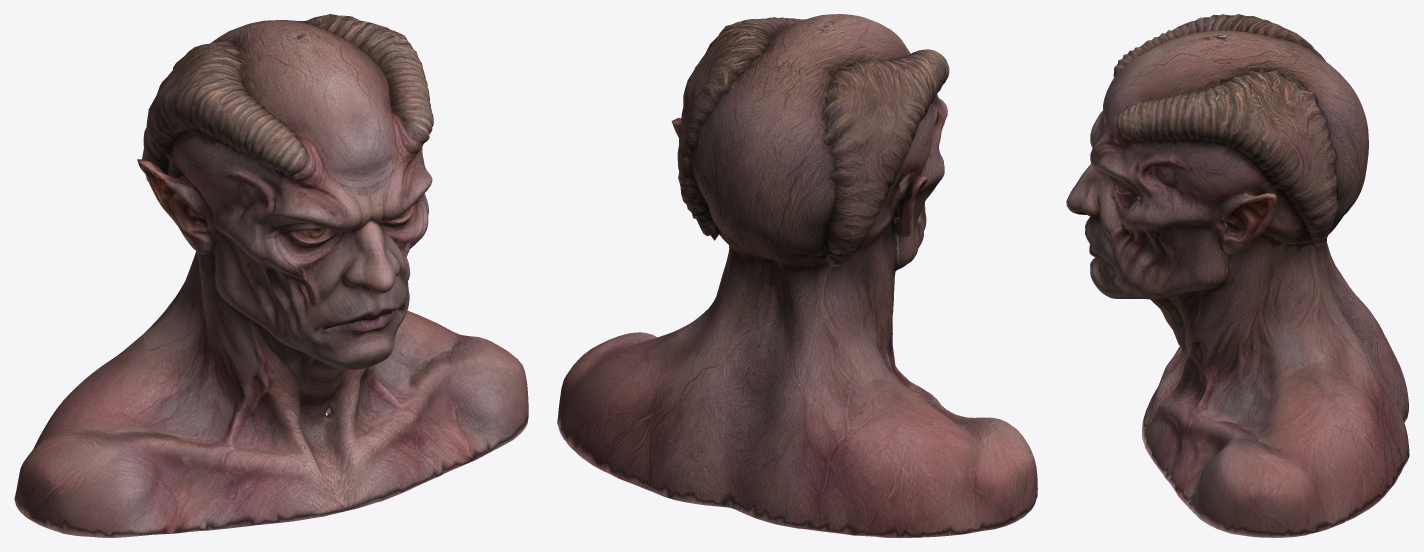
Rendered from daemon.glb.
3 views of the same model, side by side, from view 1: azimuth 30°, elevation 25°; view 2: azimuth 150°, elevation 25°; view 3: azimuth 270°, elevation 25° (orthographic). The views are drawn at different scales.
Visible parts, largest first — view 1: Head; view 2: Head; view 3: Head.
Part boxes in pixels (left/top/right/bottom): Head: left=14, top=14, right=528, bottom=537; Head: left=557, top=14, right=1037, bottom=537; Head: left=1066, top=14, right=1409, bottom=537.
Bounding box in the file's own units: 1.79 × 1.56 × 1.22.
1 material, 1 textured.
